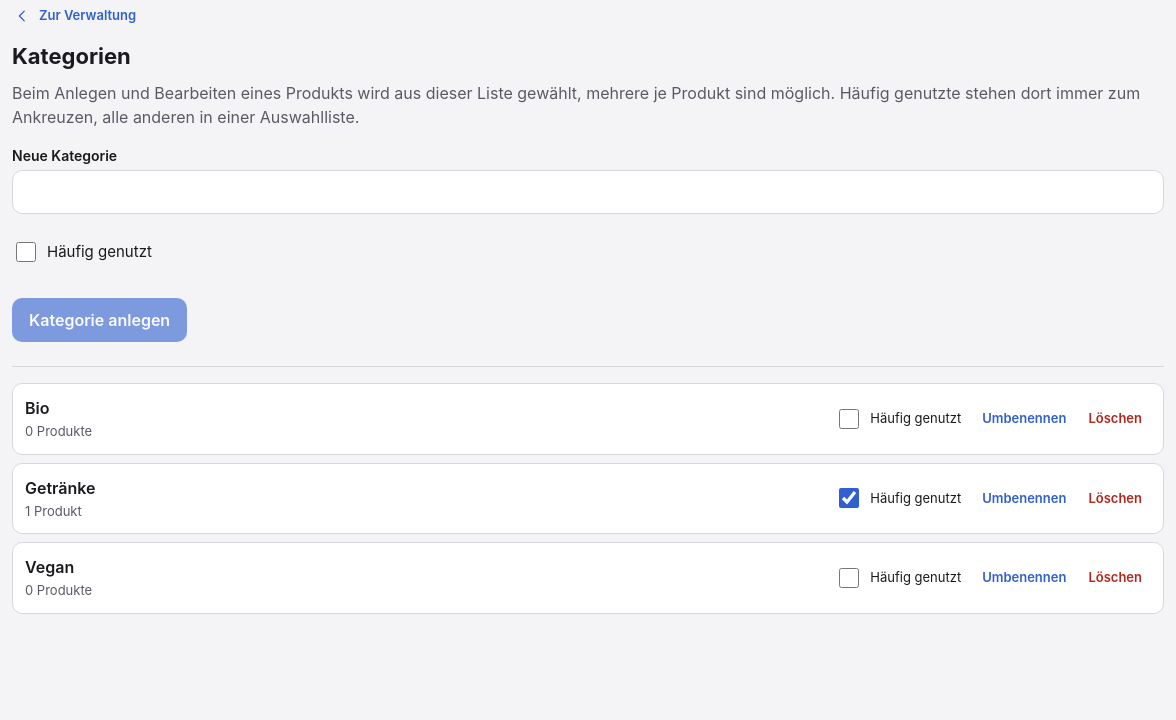
Test: the category list › says so when the name is taken
Check: the text "Vegan" is shown, box [25,557,74,577]
Type "vegan" into the field labelled "Neue Kategorie" at (588, 192), box [12,170,1164,214]
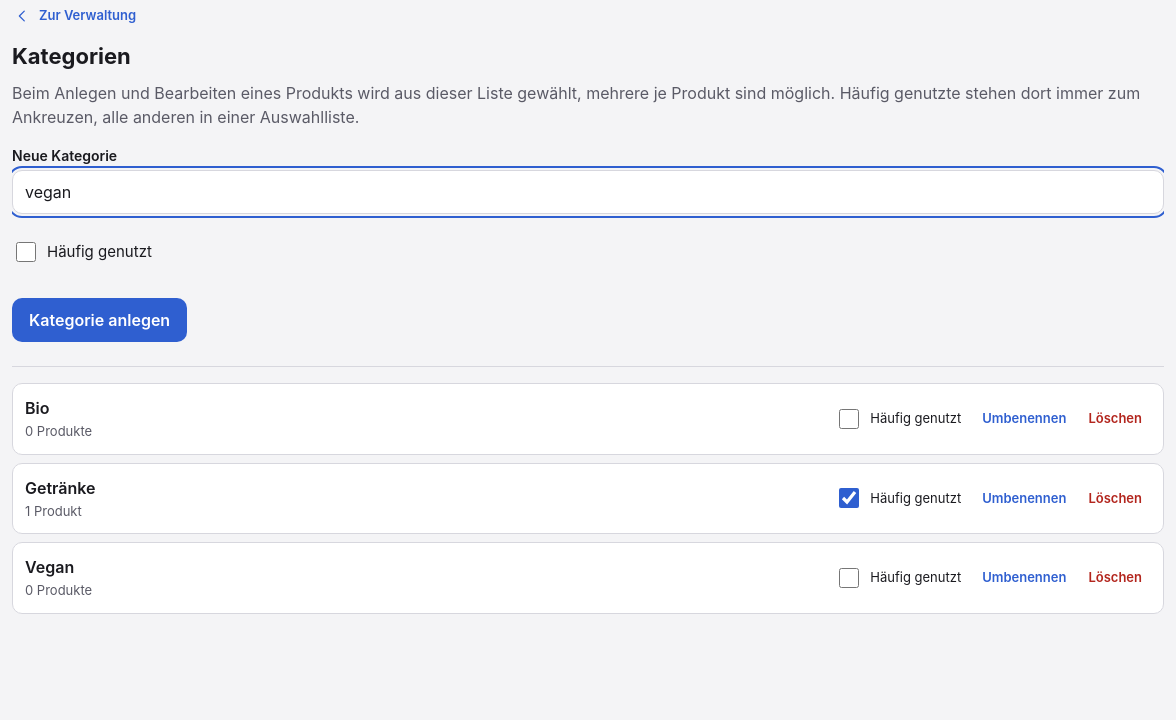
Click the button "Kategorie anlegen" at (100, 320), box [12,298,187,342]
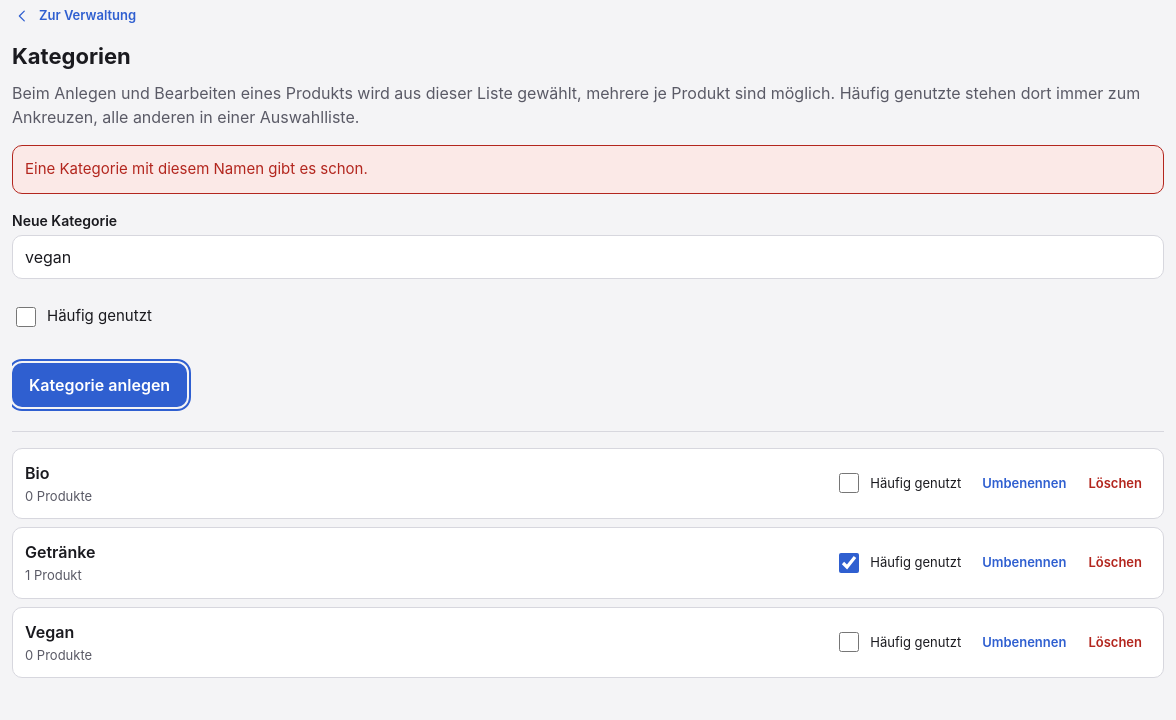
Check: the text "Eine Kategorie mit diesem Namen gibt es schon." is shown, box [25,159,368,178]
